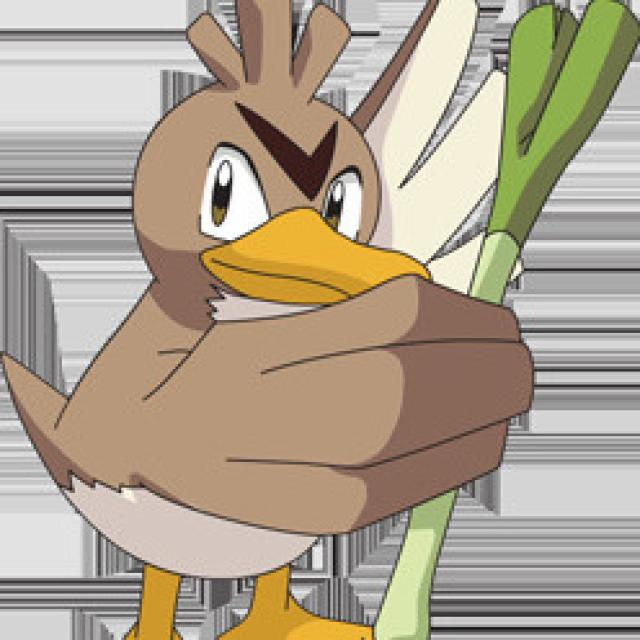Farfetchd: (82, 0, 528, 589)
